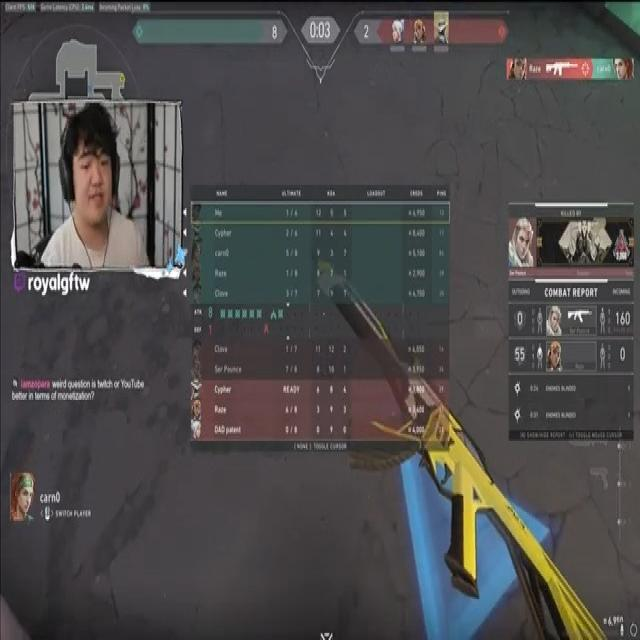gun: (318, 262, 604, 639)
